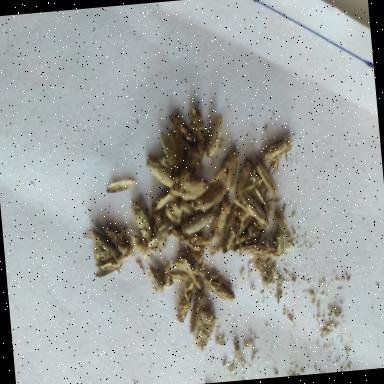pbw: (82, 223, 122, 267), (234, 242, 278, 278), (231, 189, 269, 229), (263, 134, 297, 171), (207, 196, 234, 242), (168, 110, 200, 148), (186, 288, 210, 333), (150, 192, 168, 252), (172, 282, 198, 323), (202, 112, 225, 158), (193, 312, 219, 352), (130, 196, 152, 242), (146, 153, 174, 189), (203, 274, 235, 304), (102, 224, 130, 258), (232, 158, 256, 196), (160, 130, 180, 174), (180, 211, 216, 235), (223, 150, 242, 194), (255, 160, 278, 196), (272, 214, 290, 256), (181, 178, 212, 200), (106, 178, 136, 194)
